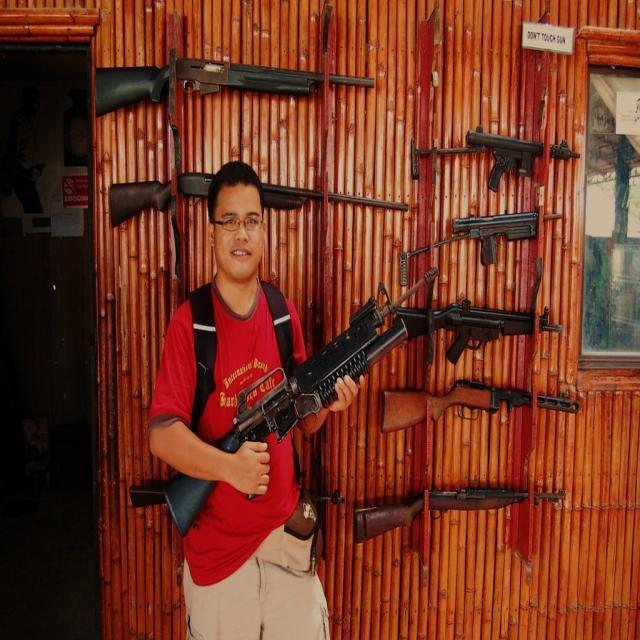weapon: (163, 248, 429, 506), (92, 54, 374, 122), (106, 170, 408, 230), (352, 480, 566, 542), (392, 292, 566, 368), (378, 374, 578, 434), (463, 123, 581, 194), (450, 202, 562, 268), (127, 488, 346, 511)
